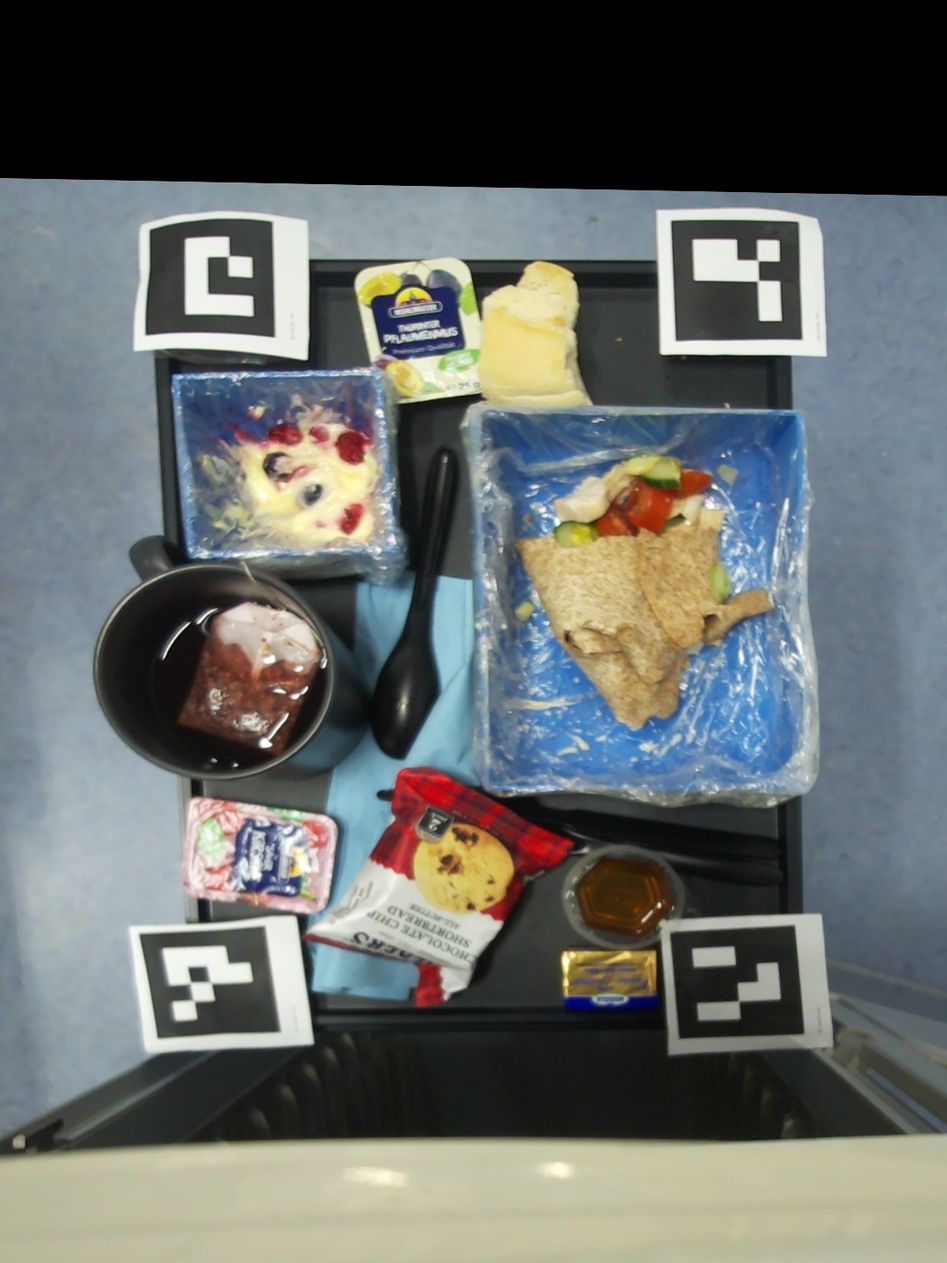bread_roll: (481, 260, 594, 406)
butter: (560, 950, 658, 1011)
cherry_jam: (182, 798, 338, 914)
cookie: (303, 766, 575, 1007)
honey: (563, 846, 702, 949)
plum_jam: (354, 256, 493, 403)
tea_cup: (93, 535, 371, 780)
vanilla_pudding_with_fruits: (227, 413, 380, 548)
wrap_half_1: (515, 455, 774, 731), (716, 464, 739, 486), (515, 602, 536, 621)
